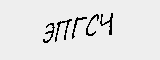Г: (69, 13, 88, 41)
П: (50, 17, 71, 46)
С: (83, 12, 100, 39)
Ч: (96, 9, 117, 38)
Э: (39, 22, 54, 48)
